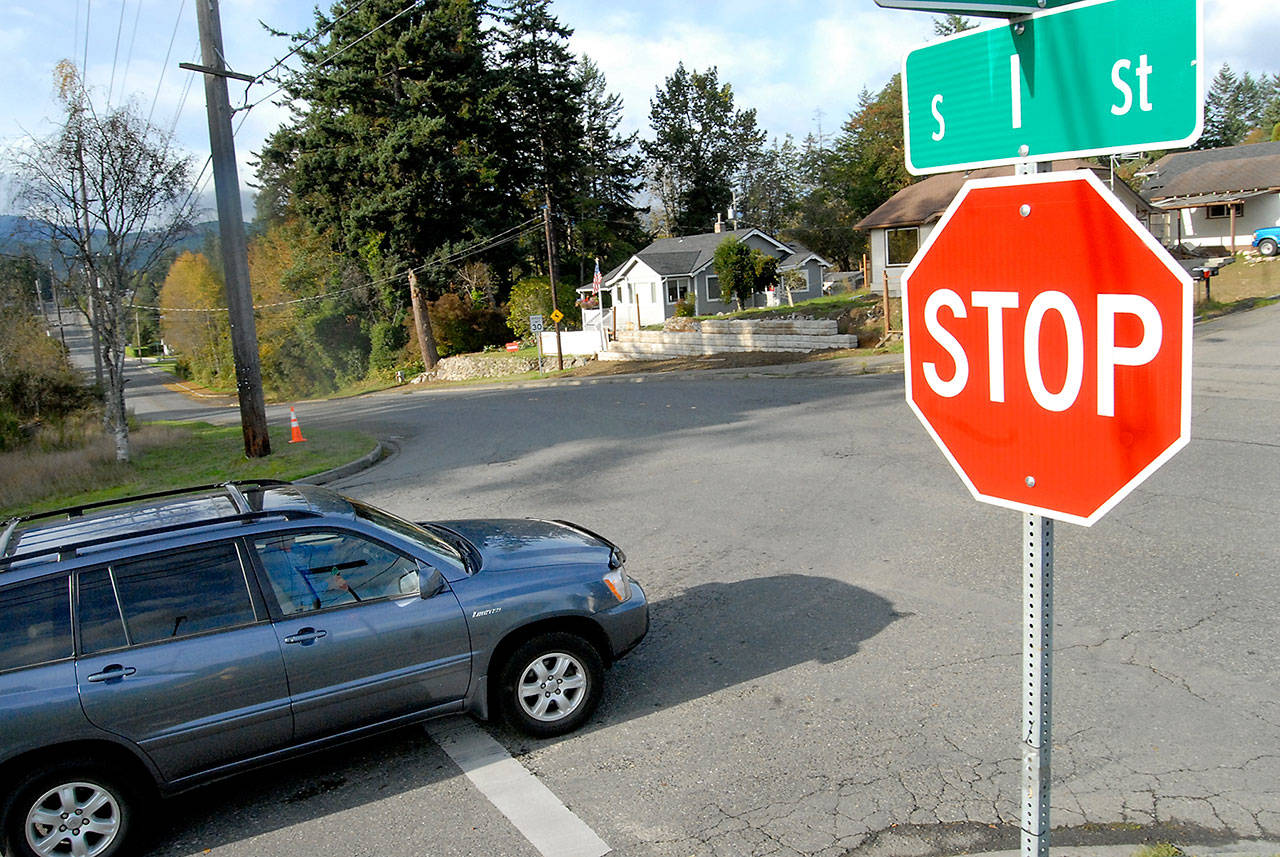stop_sign: (901, 168, 1189, 536)
